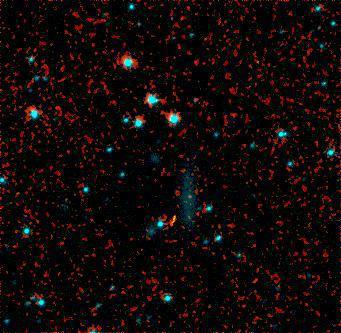star: (159, 212, 189, 242)
